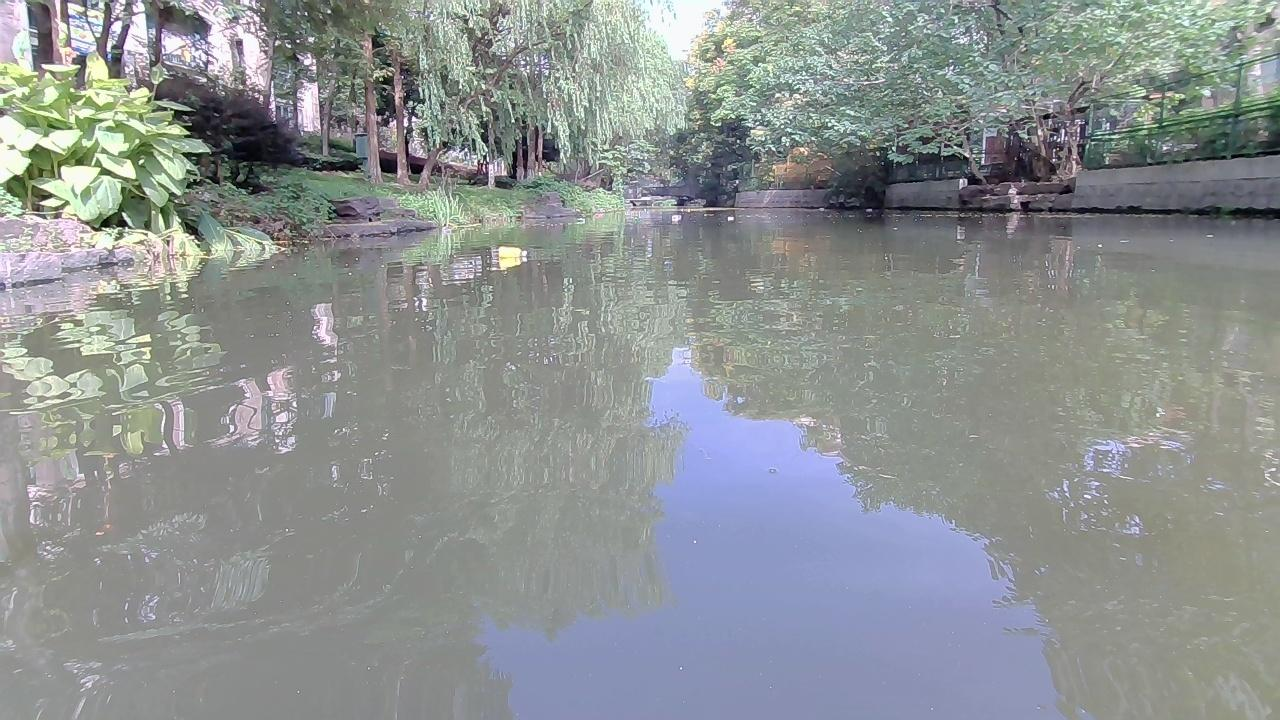bottle: (497, 245, 532, 262), (669, 214, 680, 224), (726, 213, 735, 219), (576, 216, 583, 223), (593, 211, 600, 215)
